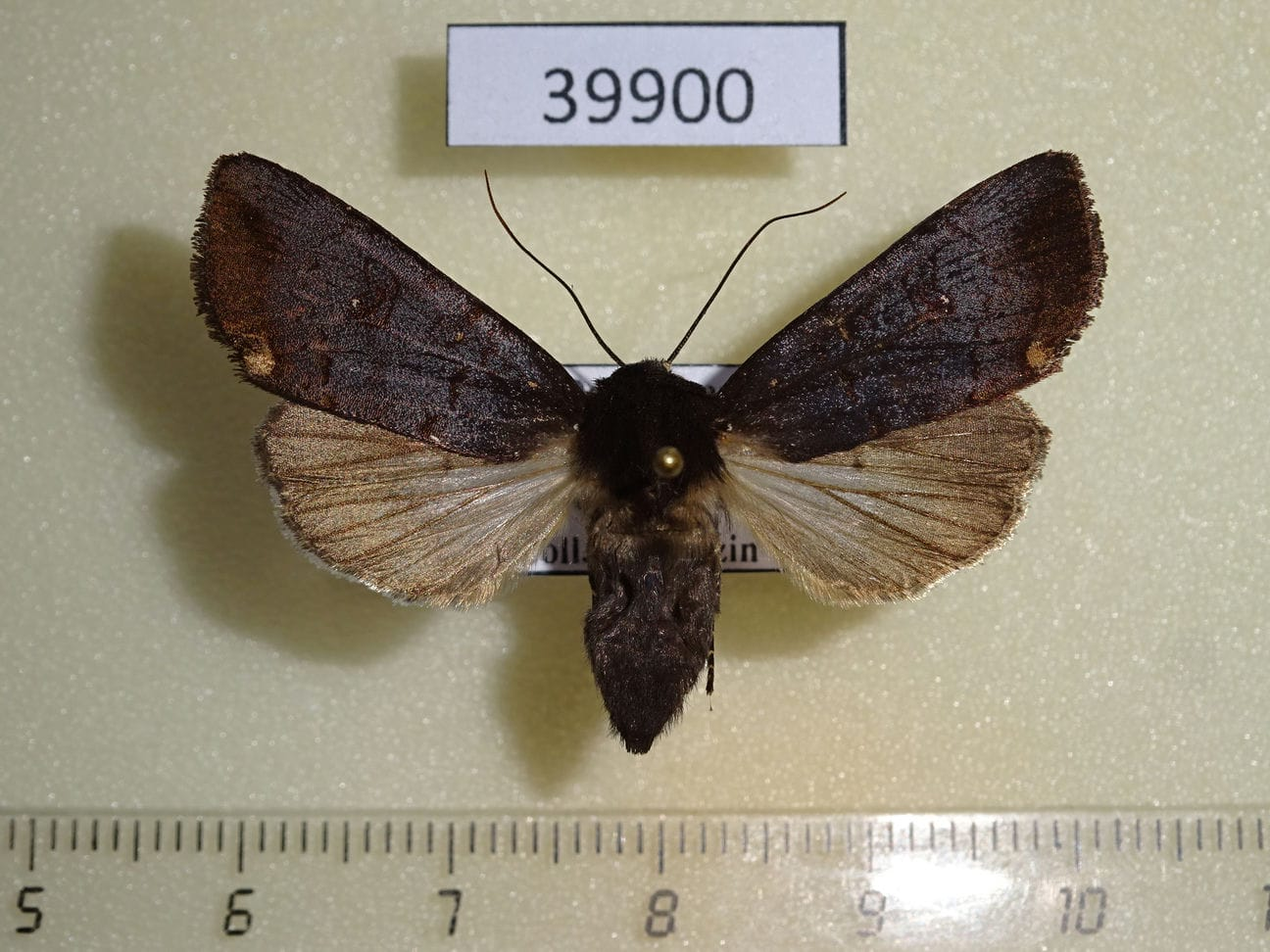Noctuidae: (187, 146, 1117, 760)
